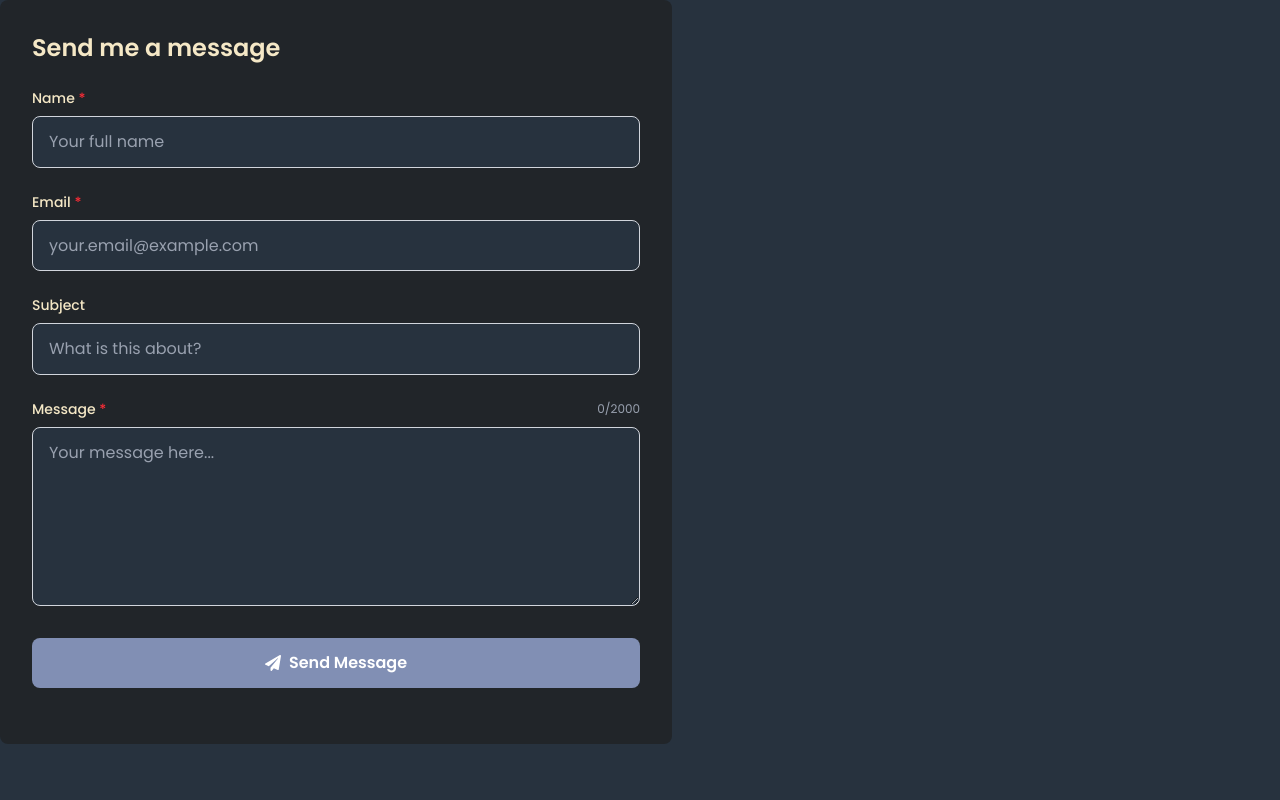
ContactForm — validation › shows min-length error for name with 1 char
In the field labelled "Name *": (336, 142) [32, 116, 640, 168], type "A"
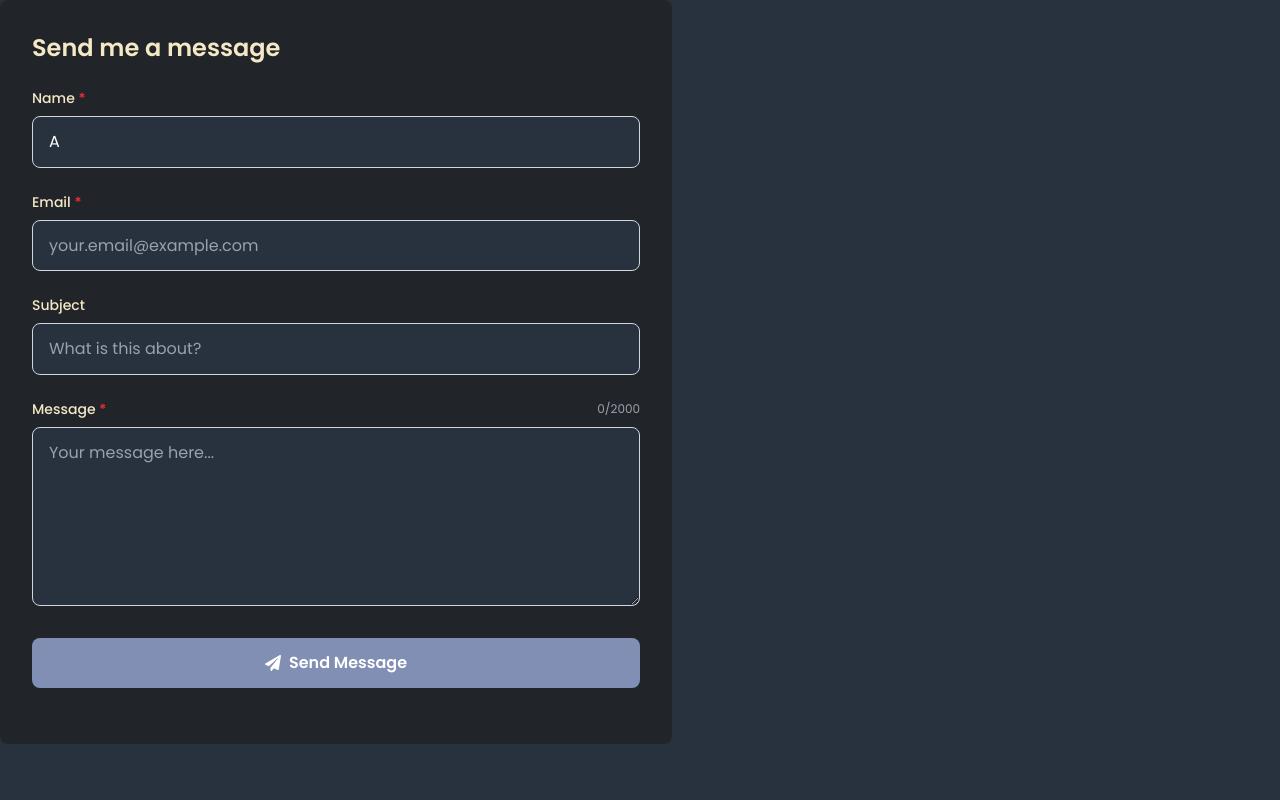
Click the button "Send Message": (336, 663) [32, 638, 640, 688]
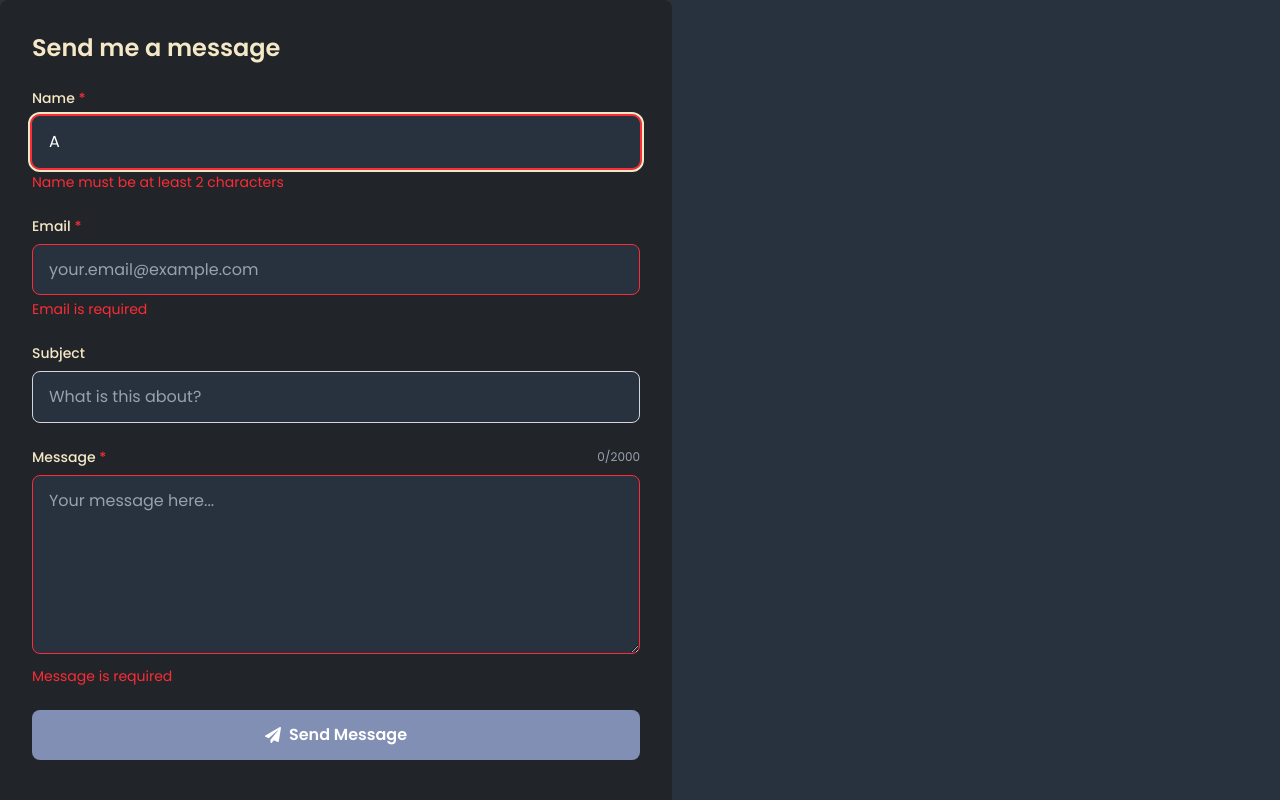
expect the text "Name must be at least 2 characters" is shown: met, box [32, 172, 284, 192]
